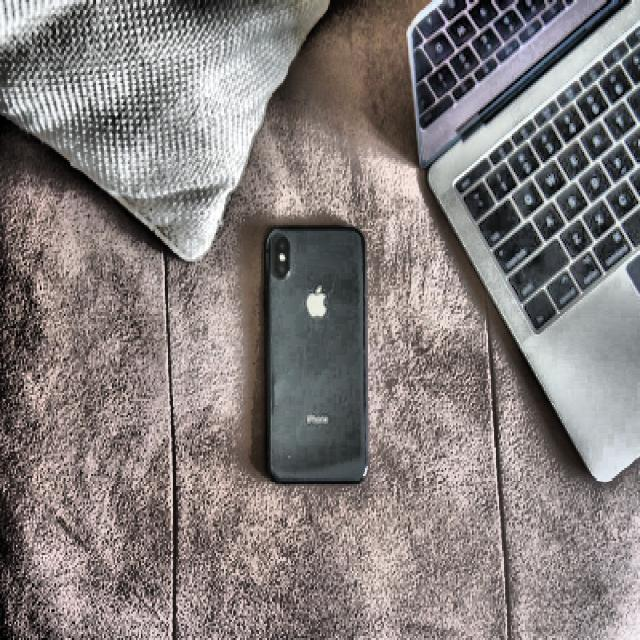Phone: (262, 222, 368, 484)
